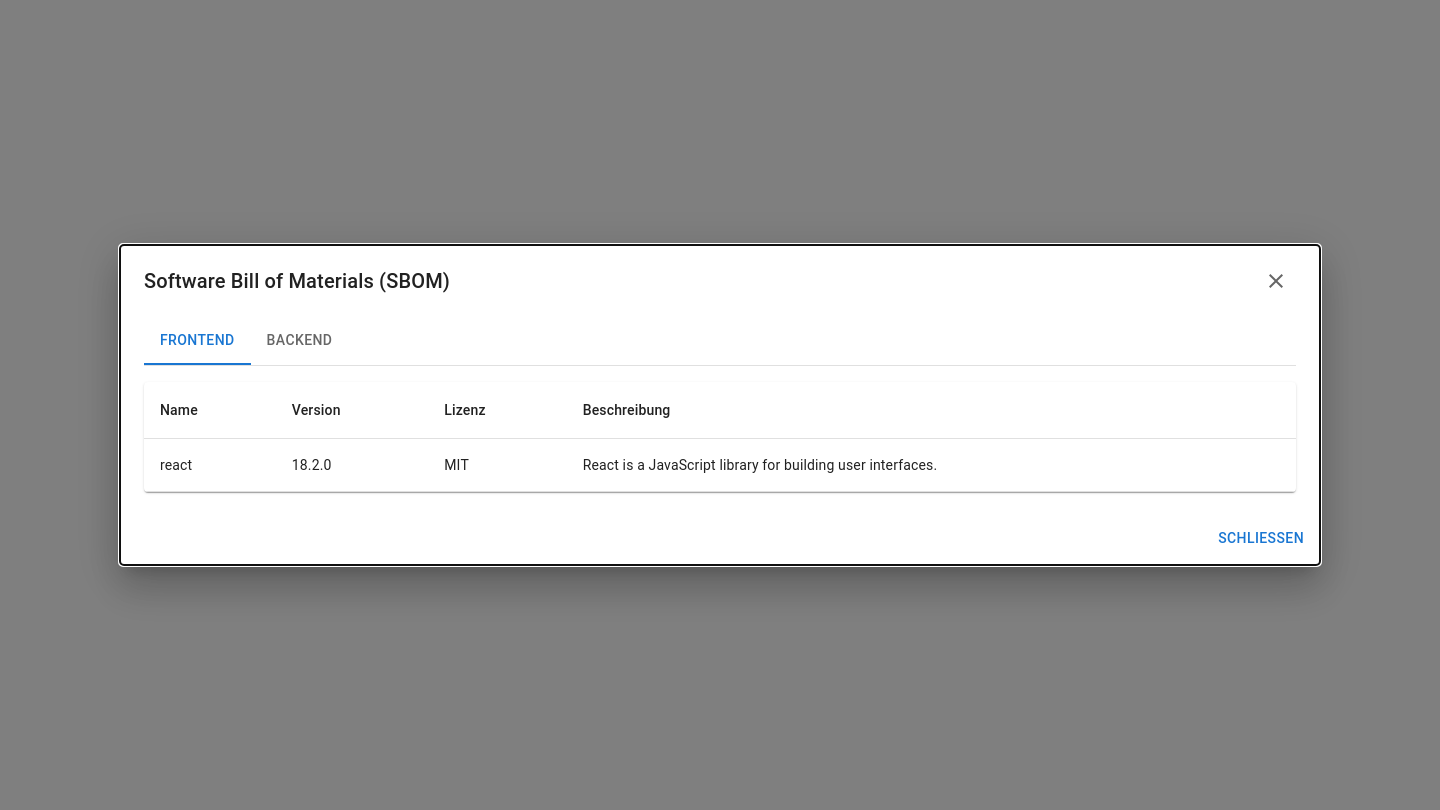
Test case: SbomDialog › should switch between frontend and backend tabs
The image size is (1440, 810).
expect the text "react" is shown: met, box [144,439,276,492]
Step 1. Click the tab "Backend" → point(300, 341), box [251,317,348,365]
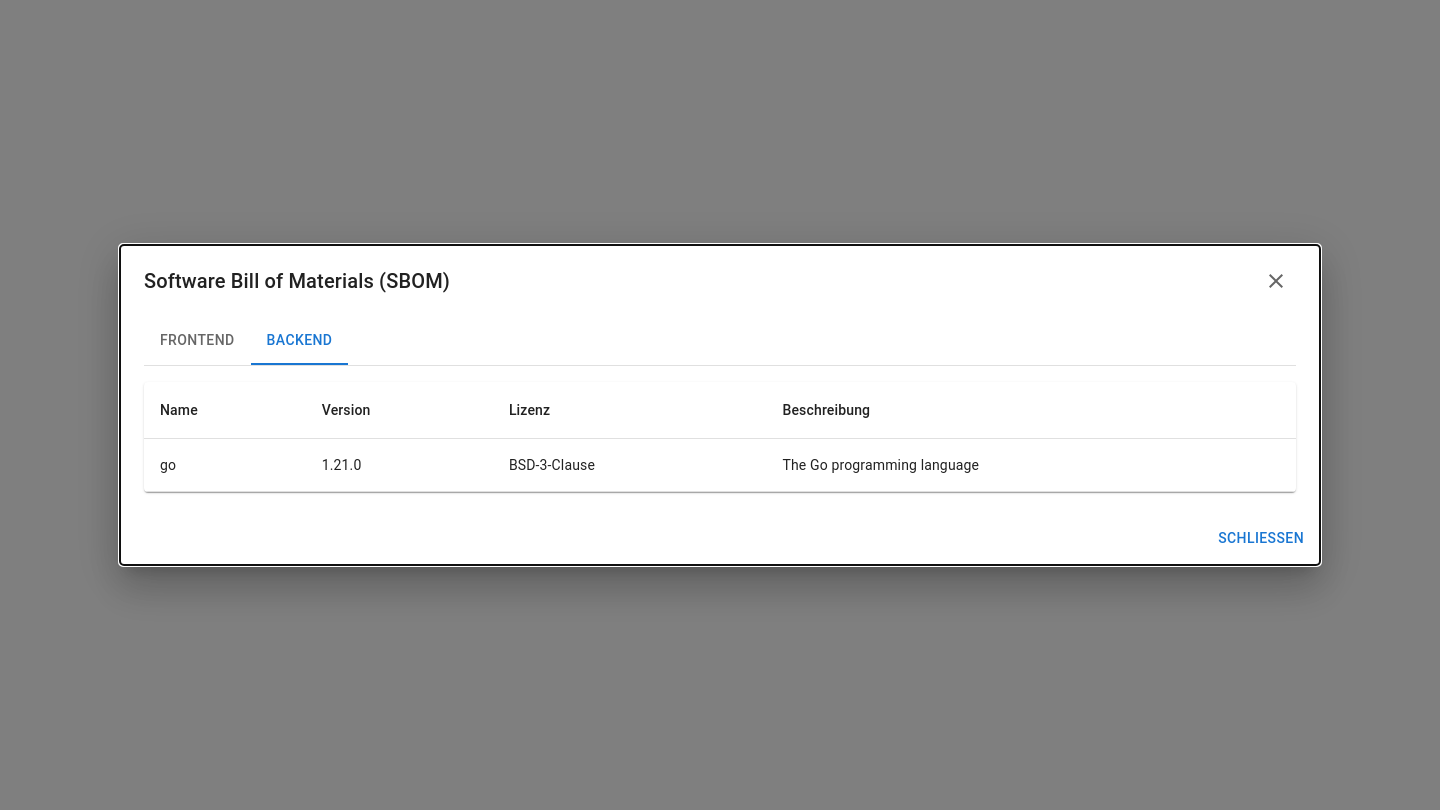
expect the text "go" is shown: met, box [144,439,306,492]
expect the text "1.21.0" is shown: met, box [306,439,493,492]
expect the text "BSD-3-Clause" is shown: met, box [493,439,766,492]
